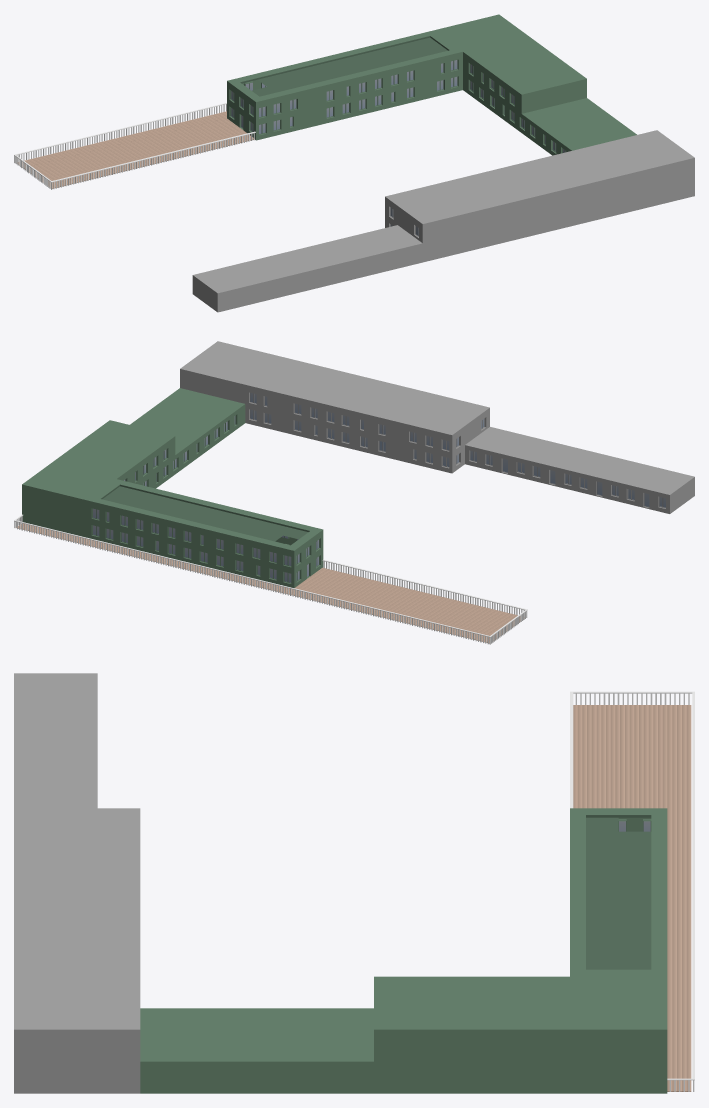
File: Hrushevka.fbx
3 renders of one model, top to bottom at view 1: azimuth 30°, elevation 25°; view 2: azimuth 150°, elevation 25°; view 3: azimuth 270°, elevation 25°, orthographic. The views are drawn at different scales.
Parts seen in each view (by area): view 1: Dop etaz; view 2: Dop etaz; view 3: Dop etaz.
Part boxes in pixels (box(x1,y1,x2,y2)): Dop etaz: box(14, 14, 694, 312); Dop etaz: box(14, 341, 694, 644); Dop etaz: box(14, 673, 694, 1093).
Bounding box in the file's own units: 17845 × 1370 × 13222.
